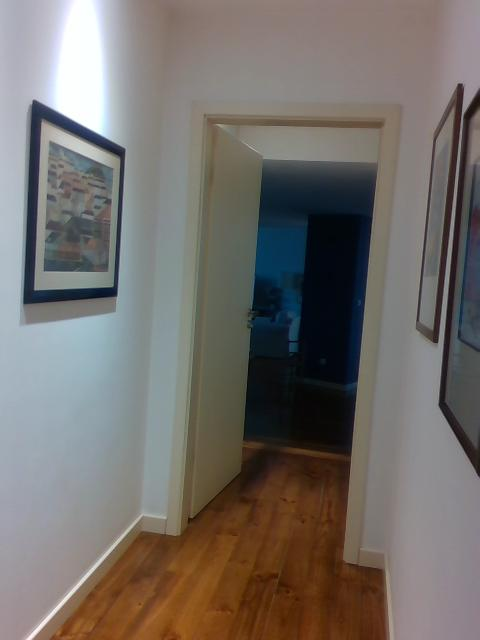open_door: (165, 98, 402, 563)
